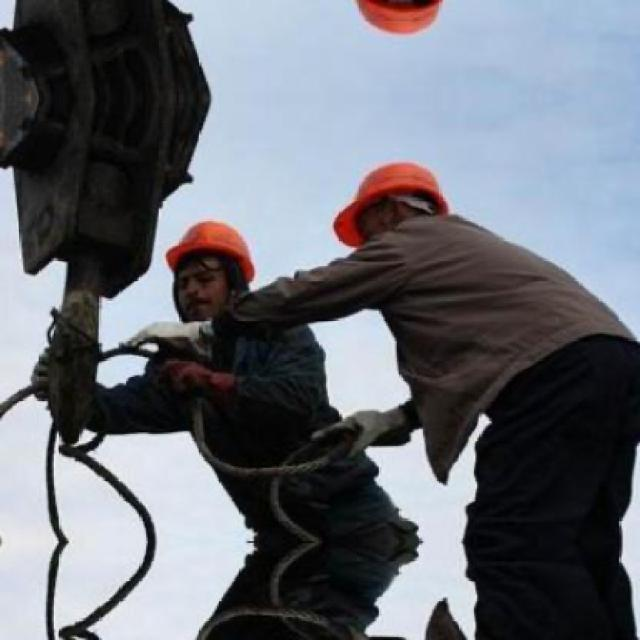con casco: (149, 210, 293, 336), (302, 160, 462, 264)
